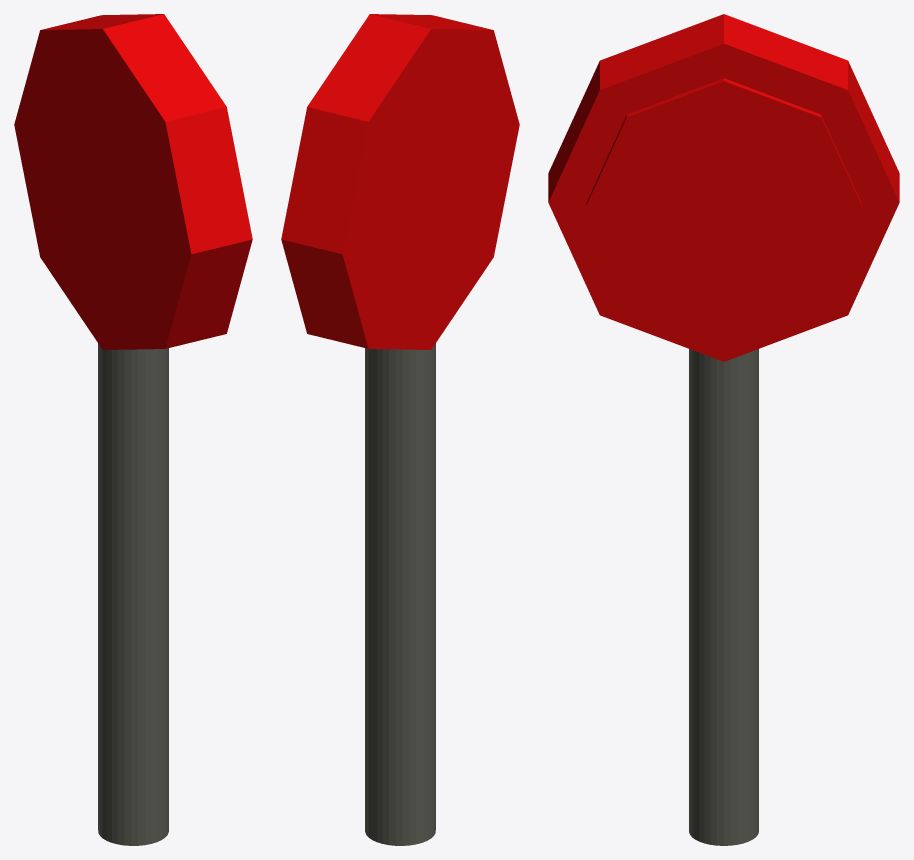
The picture shows the model from 3 angles, left to right: view 1: azimuth 30°, elevation 25°; view 2: azimuth 150°, elevation 25°; view 3: azimuth 270°, elevation 25°; orthographic projection.
Visible parts, largest first — view 1: Cylinder.001, Cylinder; view 2: Cylinder.001, Cylinder; view 3: Cylinder.001, Cylinder.
Part boxes in pixels (x1,y1,x2,y2): Cylinder.001: [14, 14, 252, 349]; Cylinder: [98, 343, 168, 845]; Cylinder.001: [281, 14, 519, 349]; Cylinder: [365, 343, 435, 845]; Cylinder.001: [548, 14, 899, 361]; Cylinder: [689, 349, 758, 845].
Size of the model in its own units: 11 by 126 by 50.
